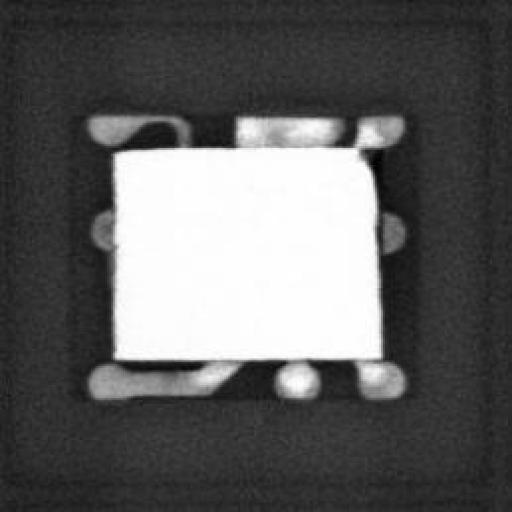DIE_BROKEN: (355, 142, 381, 216)
